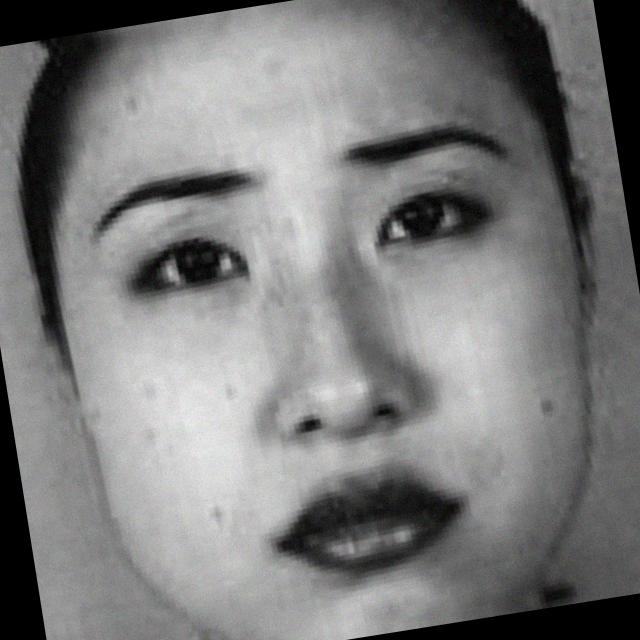sad: (33, 28, 624, 640)
